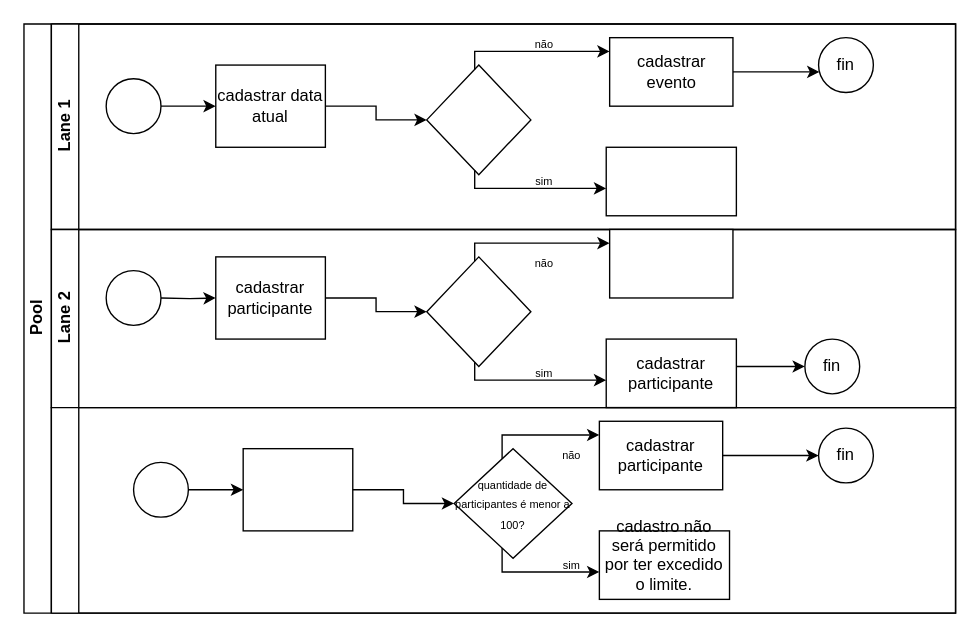
This 980x638 diagram has some shape labels left out. The box of each missing label's shape, as (x1, y1, x2, y2) in pixels:
cadastro não permitido: (608, 228, 733, 298)
cadastro não será permitido por data inválida.: (605, 146, 736, 216)
data do evento é posterior a data atual?: (425, 64, 531, 175)
Lane 3: (50, 406, 956, 613)
Listar a quantidade de participantes por evento: (242, 447, 353, 531)
participante é maior a 18 anos?: (425, 256, 531, 366)
